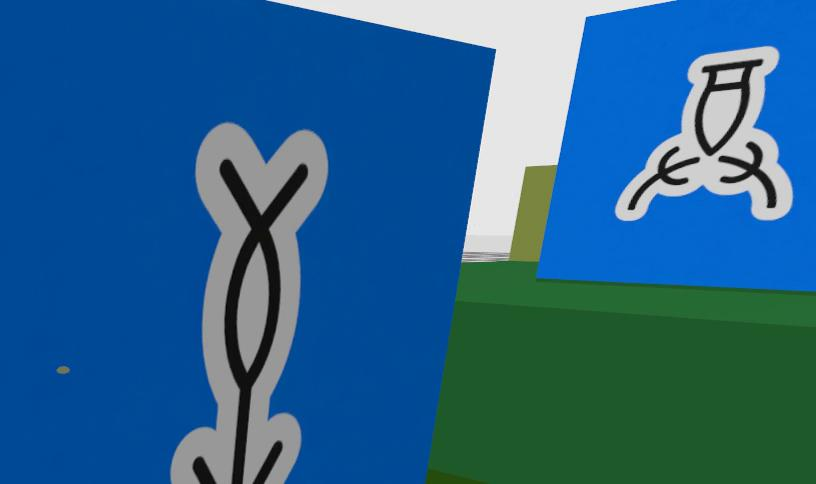KFS_REAL: (0, 0, 493, 484), (540, 0, 815, 291), (170, 123, 327, 484), (615, 46, 792, 220)
